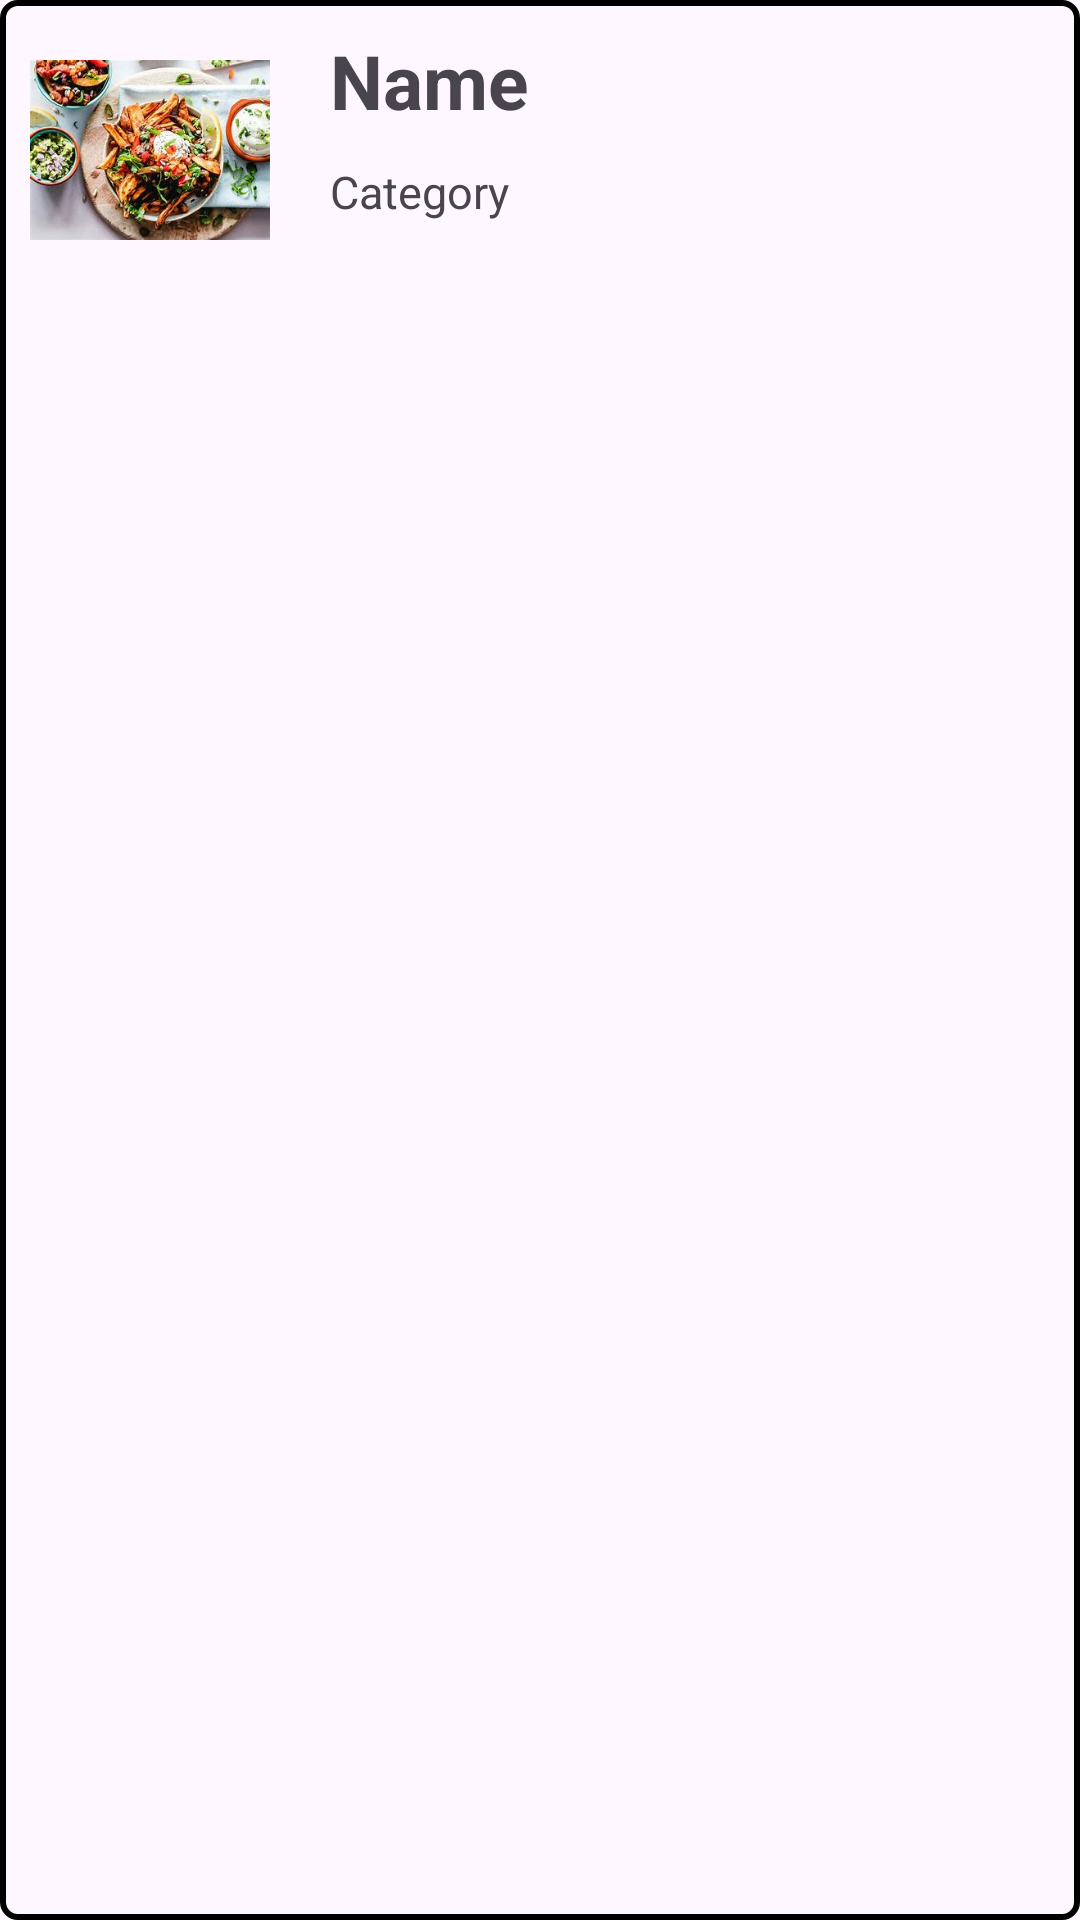

Icon bounding boxes for this 1080px×1920px phone screenshot, format region(x1, y1, x2, y2):
product: region(30, 60, 270, 240)
